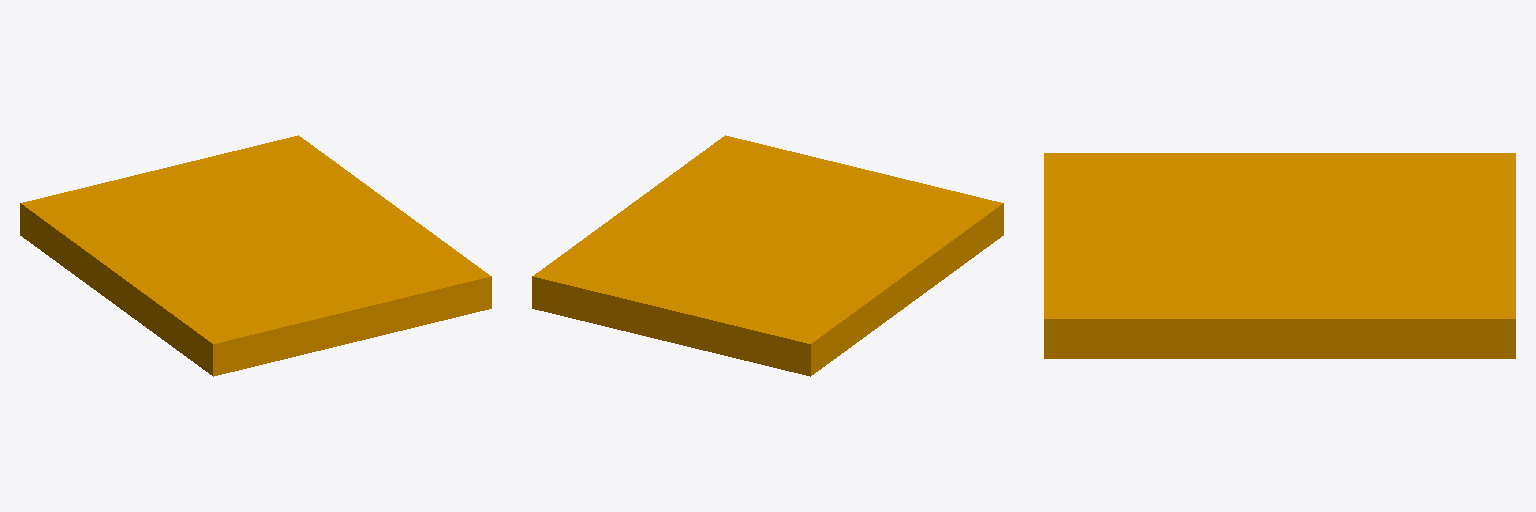
robot.urdf — table:
<?xml version="1.0"?>
            <robot name="table">
                <link name="table">
                    <visual>
                        <geometry>
                            <box size="0.45001497864723206 0.5400180220603943 0.05000000074505806 "/>
                        </geometry>
                    </visual>
                    <collision>
                        <geometry>
                            <box size="0.45001497864723206 0.5400180220603943 0.05000000074505806"/>
                        </geometry>
                    </collision>
                </link>
            </robot>
            

--- What the picture shows (computed from the rendered views, not written in the file) ---
Views: 3 orthographic renders of the robot side by side, from view 1: azimuth 30°, elevation 25°; view 2: azimuth 150°, elevation 25°; view 3: azimuth 270°, elevation 25°.
Model table with 1 links and 0 joints (none), rooted at table, posed all joints at 0.
Visible links, largest first — view 1: table; view 2: table; view 3: table.
Link boxes in pixels (<box>): table: <box>20,135,491,376</box>; table: <box>532,135,1003,376</box>; table: <box>1044,153,1515,358</box>.
Bounding box of the posed robot: 0.45 × 0.54 × 0.05 m (x, y, z).
Geometry: primitives only (box / cylinder / sphere), no mesh files.